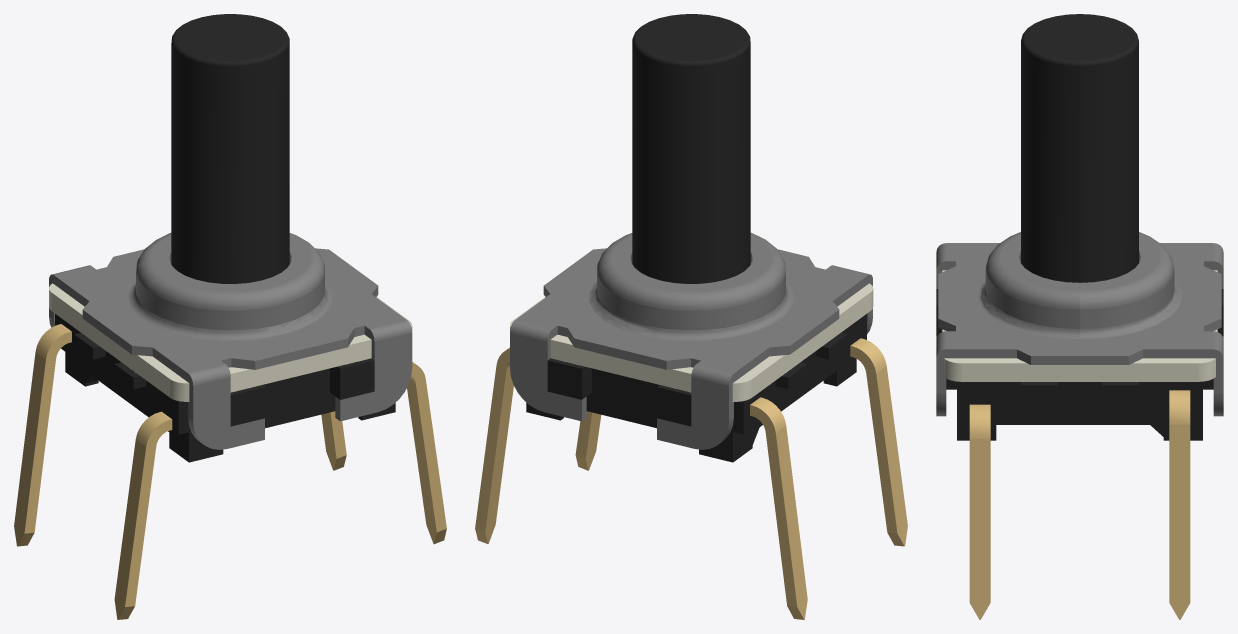
The model's file is kc-sw_tactile_straight_ksl0axx1lftr.glb.
3 renders of one model, left to right at view 1: azimuth 30°, elevation 25°; view 2: azimuth 150°, elevation 25°; view 3: azimuth 270°, elevation 25°, orthographic.
Visible parts, largest first — view 1: 0_0_0_0, 0.25_0.25_0.25_0, 0.75_0.5_0.25_0.9, 0.75_0.75_0.6666666666666666_0; view 2: 0_0_0_0, 0.25_0.25_0.25_0, 0.75_0.5_0.25_0.9, 0.75_0.75_0.6666666666666666_0; view 3: 0_0_0_0, 0.25_0.25_0.25_0, 0.75_0.5_0.25_0.9, 0.75_0.75_0.6666666666666666_0.
Boxes of the visible parts, <box> form: 0_0_0_0: <box>55,14,395,462</box>; 0.25_0.25_0.25_0: <box>49,233,412,449</box>; 0.75_0.5_0.25_0.9: <box>14,324,446,619</box>; 0.75_0.75_0.6666666666666666_0: <box>49,283,412,401</box>; 0_0_0_0: <box>526,14,866,462</box>; 0.25_0.25_0.25_0: <box>510,232,872,449</box>; 0.75_0.5_0.25_0.9: <box>475,338,907,619</box>; 0.75_0.75_0.6666666666666666_0: <box>510,283,873,401</box>; 0_0_0_0: <box>936,14,1223,440</box>; 0.25_0.25_0.25_0: <box>936,232,1223,416</box>; 0.75_0.5_0.25_0.9: <box>969,390,1190,619</box>; 0.75_0.75_0.6666666666666666_0: <box>942,270,1217,381</box>.
Size of the model in its own units: 0.9537 by 1.42 by 0.73.
